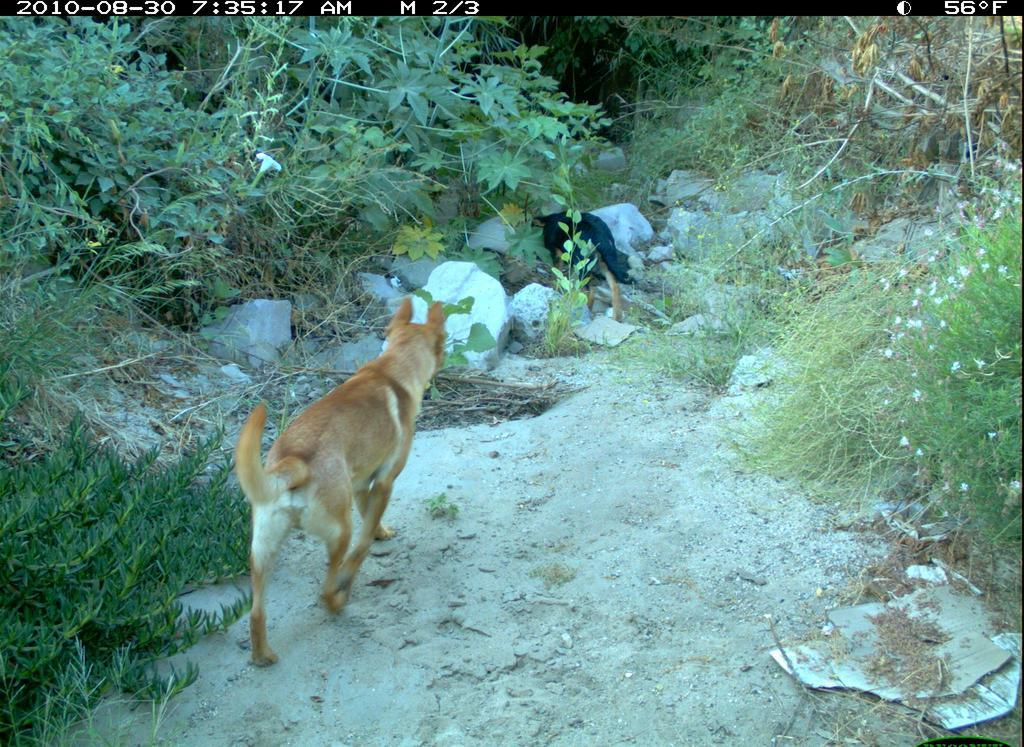dog: (182, 239, 463, 672), (528, 203, 642, 324)
